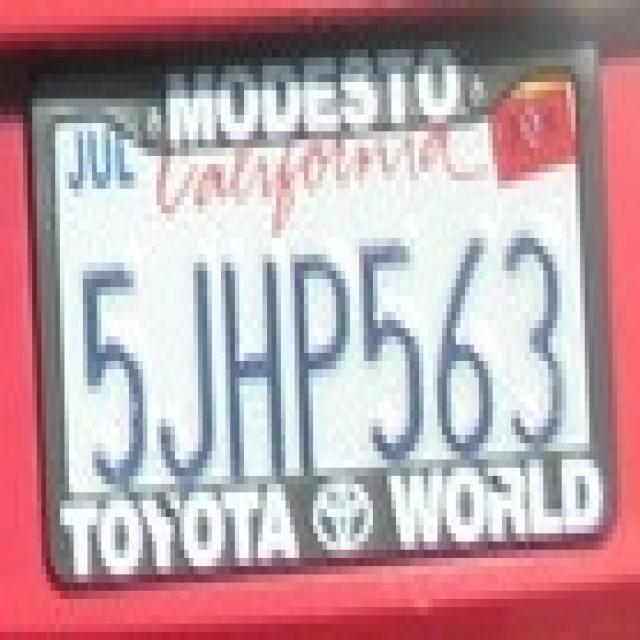licenseplate: (21, 60, 628, 600)
